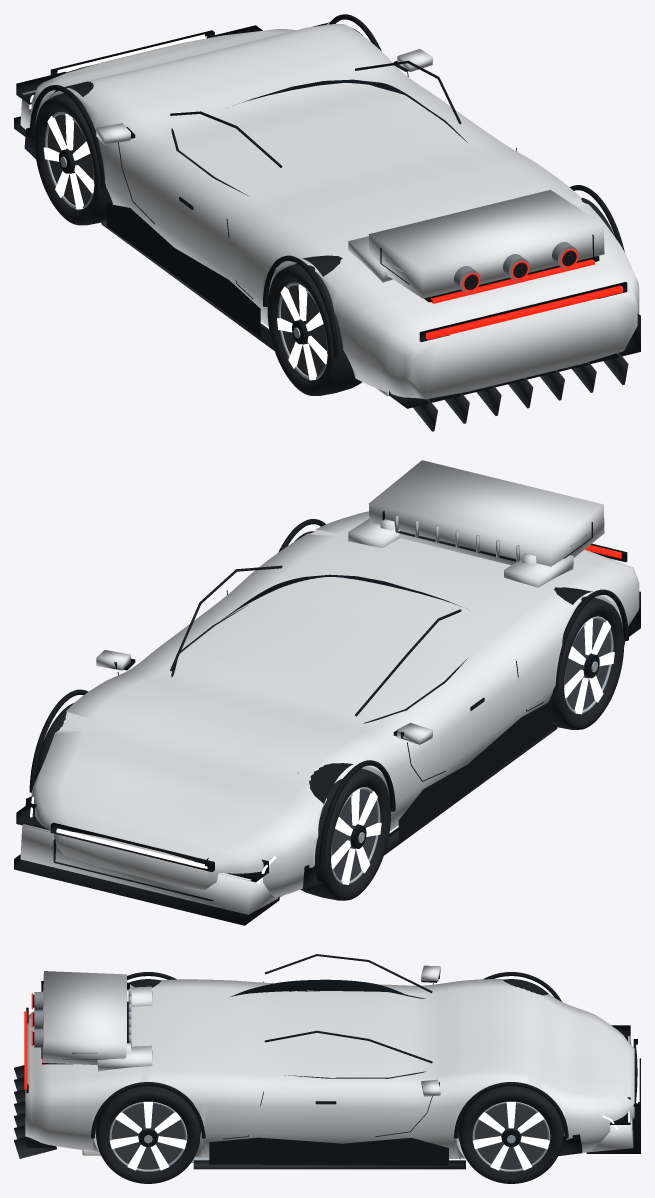
Rendered from roadster.glb.
3 views of the same model, one above another, from view 1: azimuth 30°, elevation 25°; view 2: azimuth 150°, elevation 25°; view 3: azimuth 270°, elevation 25° (orthographic). The views are drawn at different scales.
Visible parts, largest first — view 1: body, nacelle, wheel-rl, wheel-fl, fascia-rear, fascia-front, canopy, mirror-l, mirror-r; view 2: body, nacelle, fascia-front, wheel-fl, wheel-rl, canopy, fascia-rear; view 3: body, nacelle, wheel-fr, wheel-rr, canopy, fascia-front, fascia-rear.
Part boxes in pixels (x1=…): body: x1=24, y1=14, x2=639, y2=399; nacelle: x1=348, y1=190, x2=604, y2=303; wheel-rl: x1=267, y1=263, x2=361, y2=395; wheel-fl: x1=34, y1=93, x2=112, y2=225; fascia-rear: x1=389, y1=282, x2=640, y2=431; fascia-front: x1=14, y1=25, x2=262, y2=136; canopy: x1=170, y1=60, x2=467, y2=195; mirror-l: x1=96, y1=123, x2=135, y2=144; mirror-r: x1=393, y1=49, x2=432, y2=71; body: x1=25, y1=511, x2=639, y2=897; nacelle: x1=348, y1=460, x2=604, y2=587; fascia-front: x1=14, y1=797, x2=282, y2=925; wheel-fl: x1=300, y1=768, x2=390, y2=900; wheel-rl: x1=549, y1=596, x2=624, y2=729; canopy: x1=170, y1=565, x2=467, y2=723; fascia-rear: x1=585, y1=543, x2=640, y2=644; body: x1=25, y1=972, x2=634, y2=1169; nacelle: x1=31, y1=971, x2=152, y2=1071; wheel-fr: x1=458, y1=1086, x2=563, y2=1183; wheel-rr: x1=95, y1=1086, x2=200, y2=1183; canopy: x1=229, y1=954, x2=432, y2=1078; fascia-front: x1=582, y1=1025, x2=640, y2=1153; fascia-rear: x1=14, y1=1007, x2=56, y2=1158.
Size of the model in its own units: 2.27 by 1.17 by 4.84.
